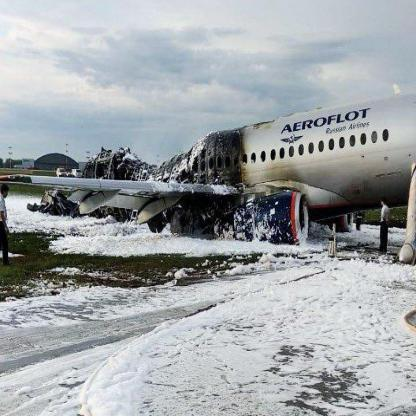CIV_Plane: (12, 85, 416, 267)
